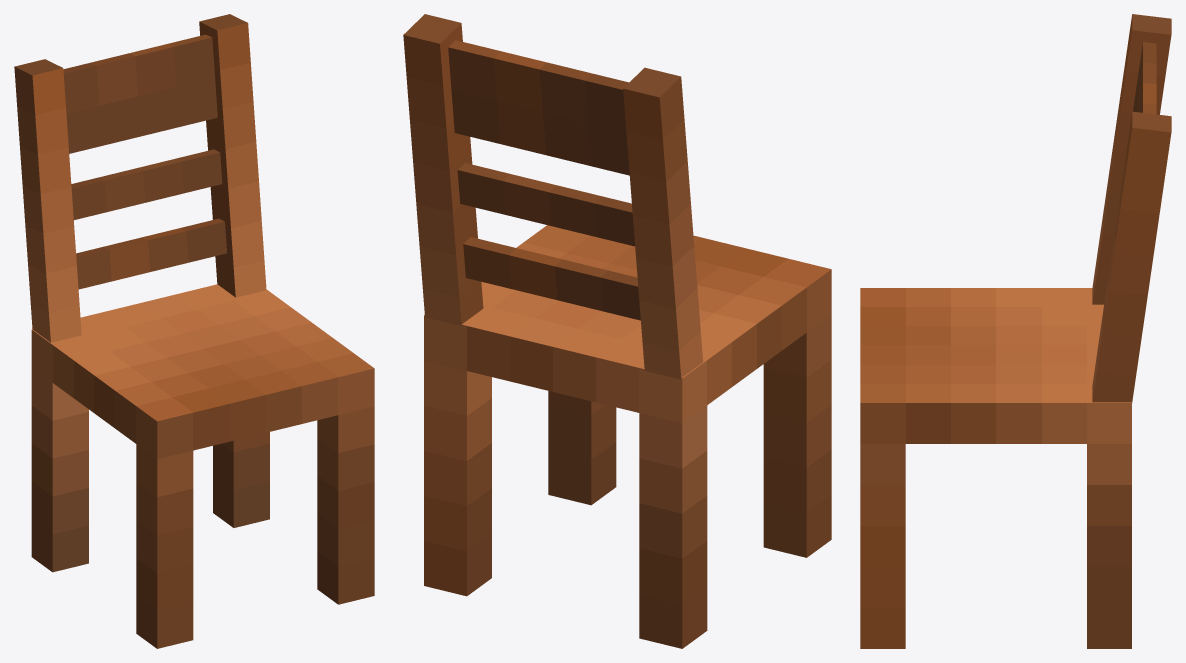
The model's file is krzeslo.gltf.
3 views of the same model, side by side, from view 1: azimuth 30°, elevation 25°; view 2: azimuth 150°, elevation 25°; view 3: azimuth 270°, elevation 25° (orthographic). The views are drawn at different scales.
Visible parts, largest first — view 1: cube (×10); view 2: cube (×10); view 3: cube (×6).
Boxes of the visible parts, x1,y1,x2,y2 form: cube (×10): (14, 14, 374, 648); cube (×10): (403, 14, 831, 648); cube (×6): (860, 14, 1171, 648).
Size of the model in its own units: 0.375 by 0.7932 by 0.4294.
Materials: 1 (1 with a texture image).
